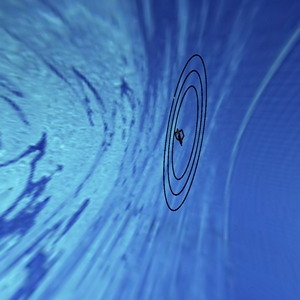circle: (152, 42, 223, 222)
submarine: (165, 126, 191, 147)
